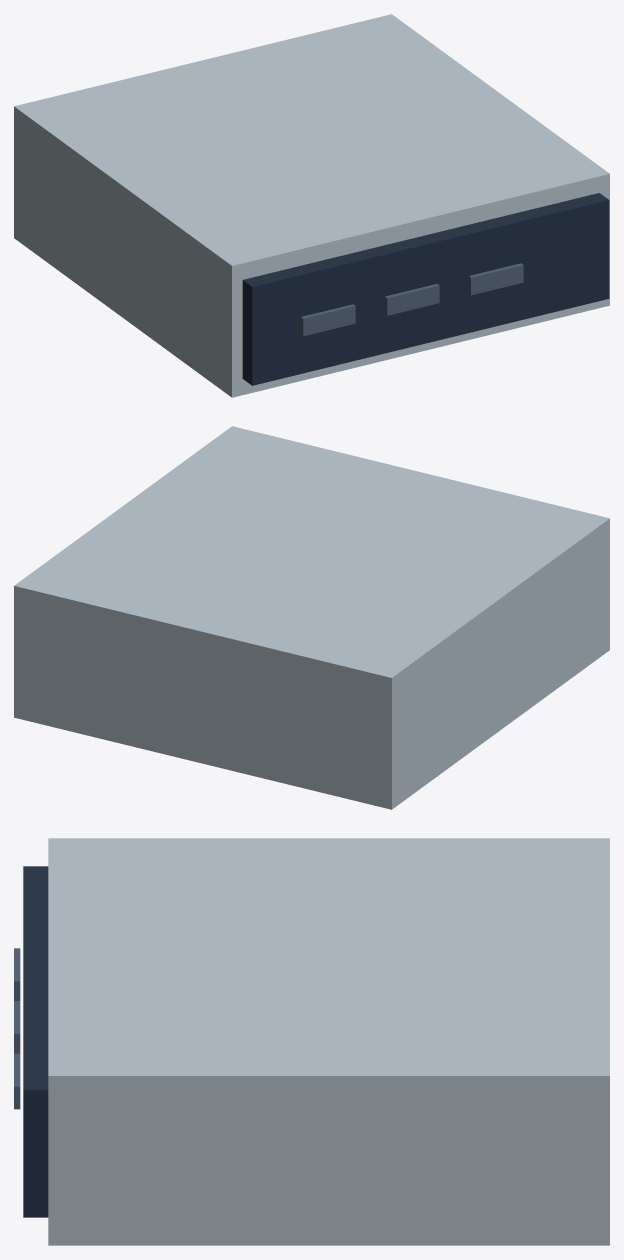
The model's file is officeMiniComputer.glb.
The picture shows the model from 3 angles, top to bottom: view 1: azimuth 30°, elevation 25°; view 2: azimuth 150°, elevation 25°; view 3: azimuth 270°, elevation 25°; orthographic projection. The views are drawn at different scales.
Bounding box in the file's own units: 0.18 × 0.06 × 0.191.
